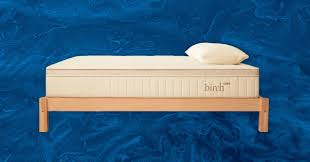bed-matress: (45, 53, 260, 97)
